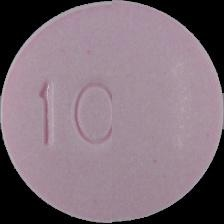57664-109: (0, 0, 224, 224)
